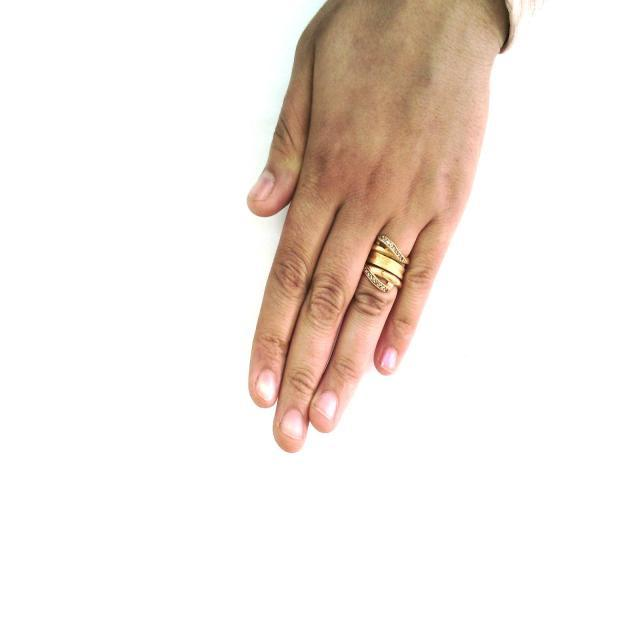Fingernail: (249, 170, 274, 200), (281, 409, 304, 439), (257, 371, 275, 403), (318, 392, 336, 418), (381, 349, 397, 370)
